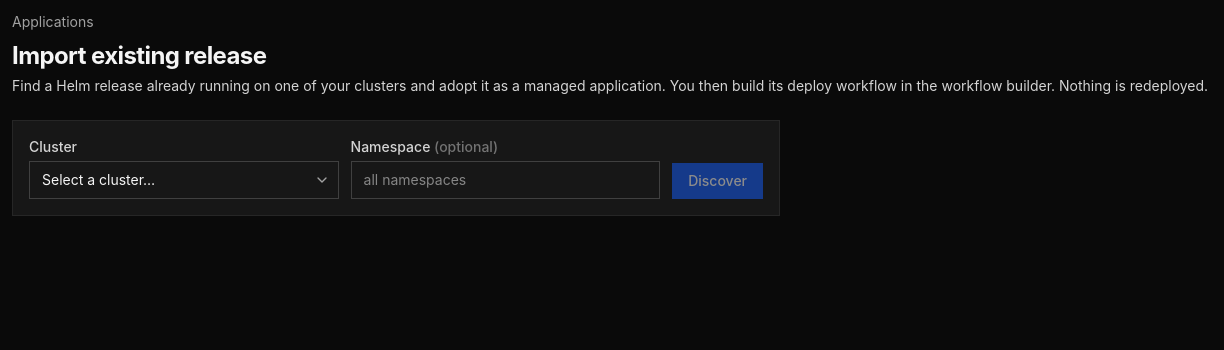
Test case: ImportApplication › discovers releases on the selected cluster and lists them
Select "prod" in the dropdown at coordinates (184, 180), box x1=29 y1=161 x2=339 y2=199
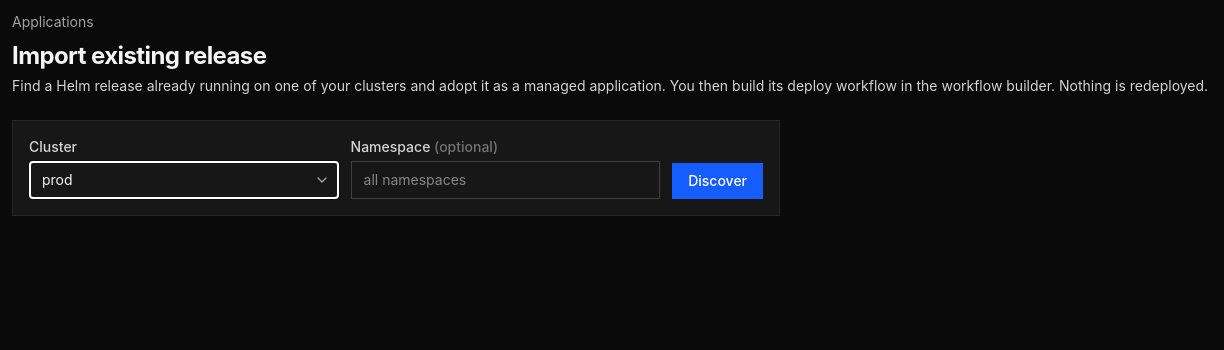
Click the button "Discover" at coordinates (718, 181), box x1=672 y1=163 x2=763 y2=199
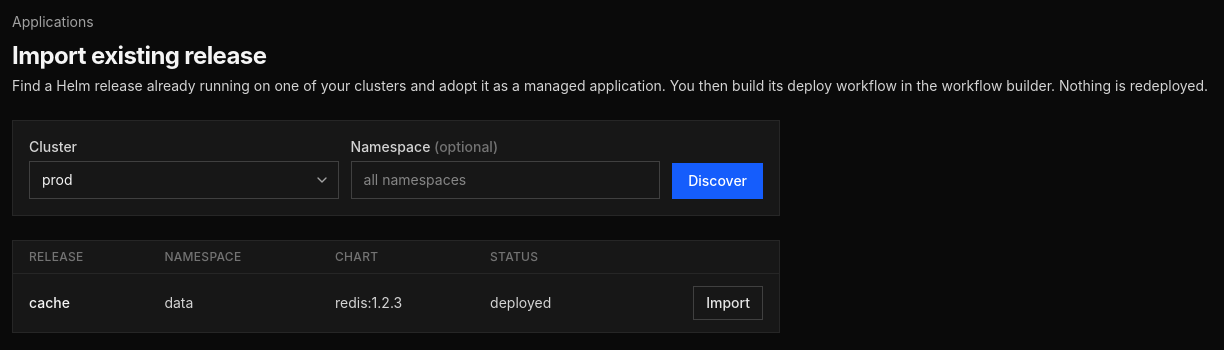
Check: the text "cache" is shown, box x1=13 y1=274 x2=148 y2=332
Check: the text "redis:1.2.3" is shown, box x1=319 y1=274 x2=474 y2=332
